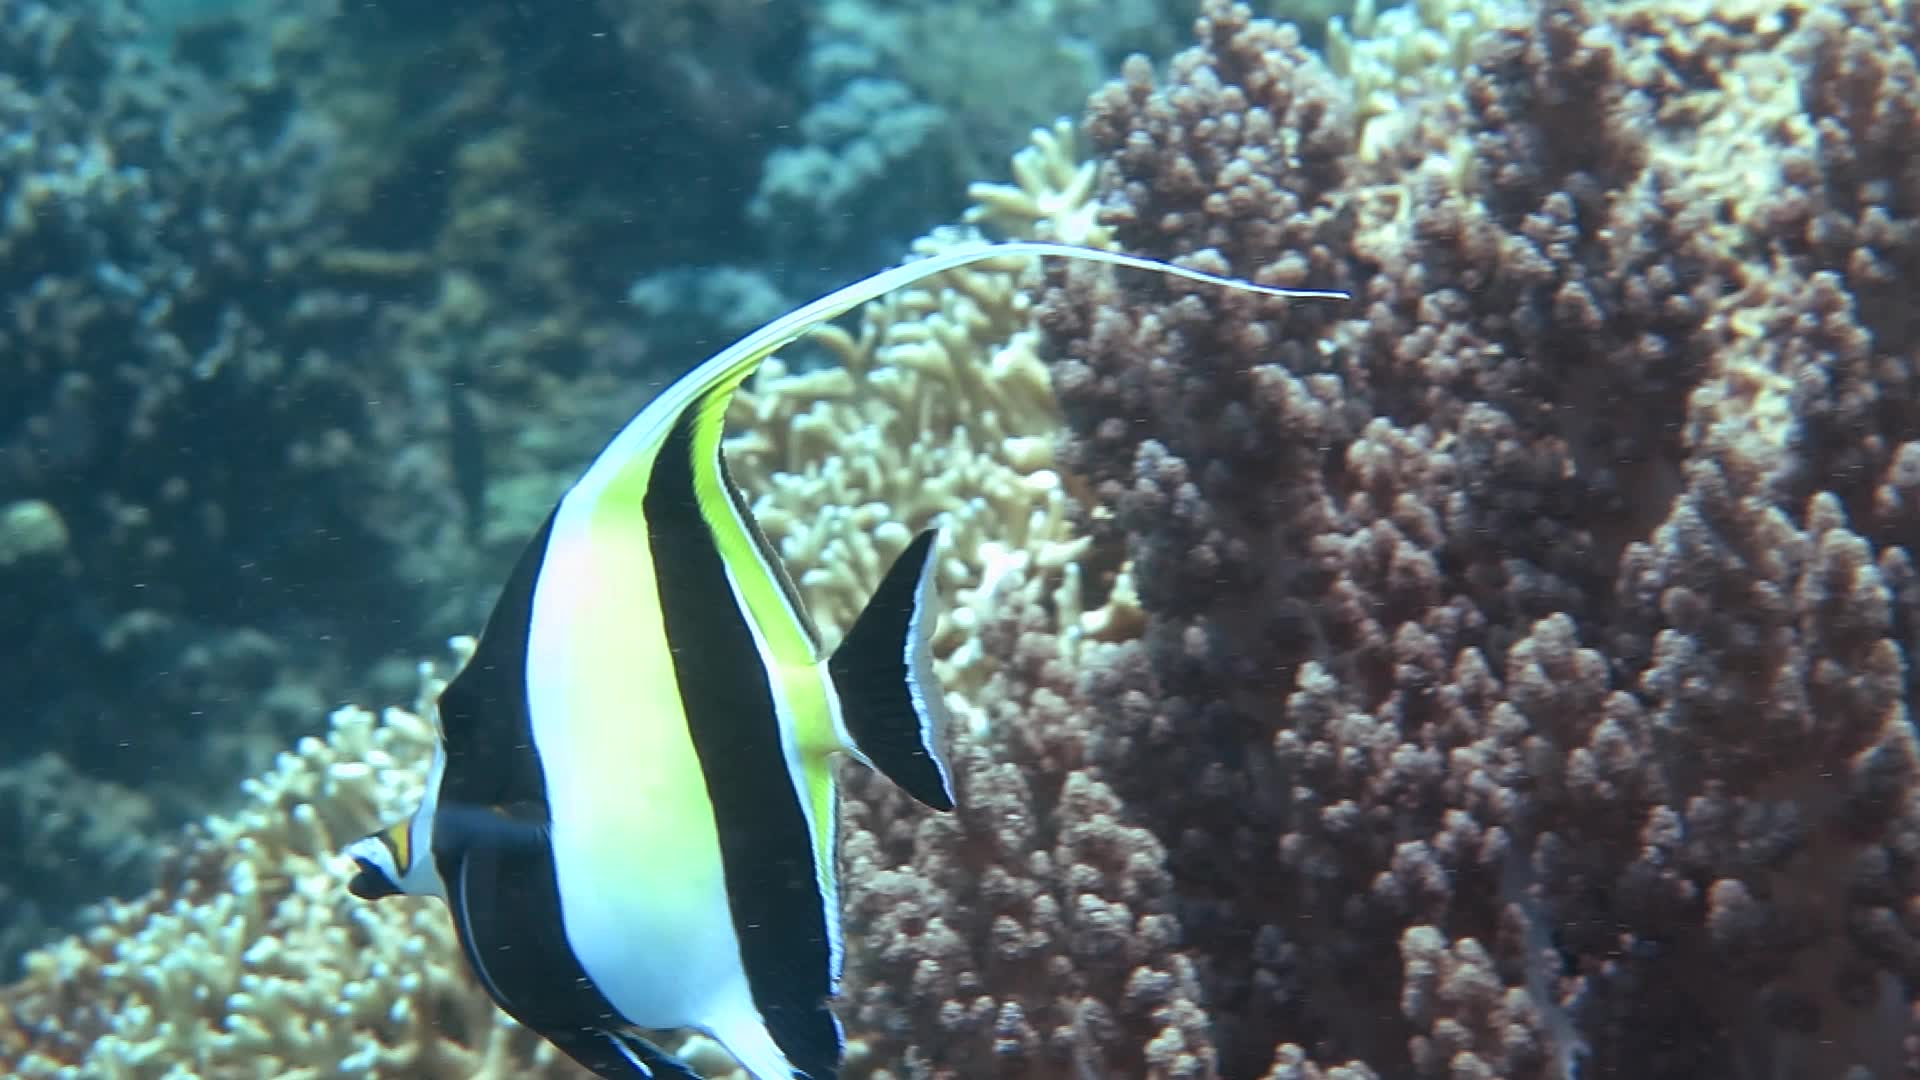Zanclus cornutus: (355, 326, 1011, 1051)
